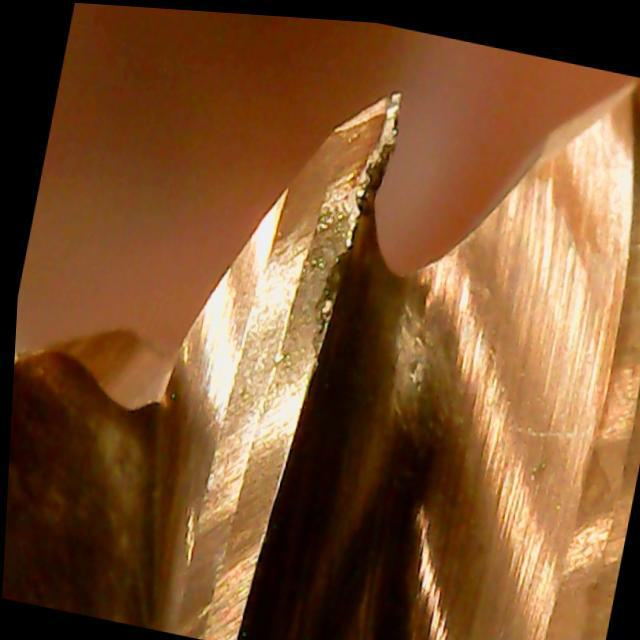Tool-wear-class-1: (225, 59, 417, 390)
